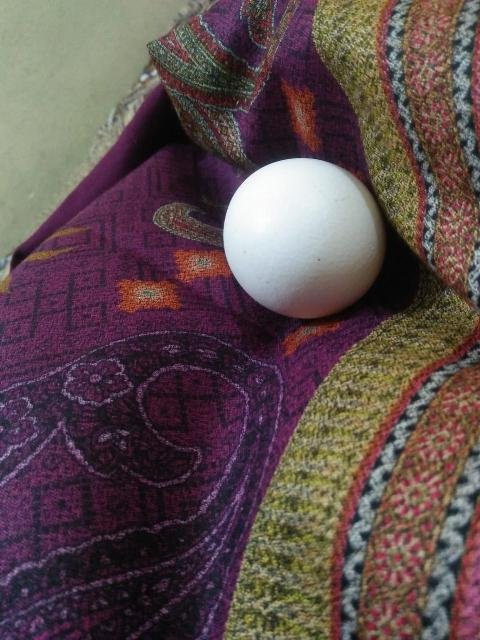Sano: (225, 159, 380, 319)
